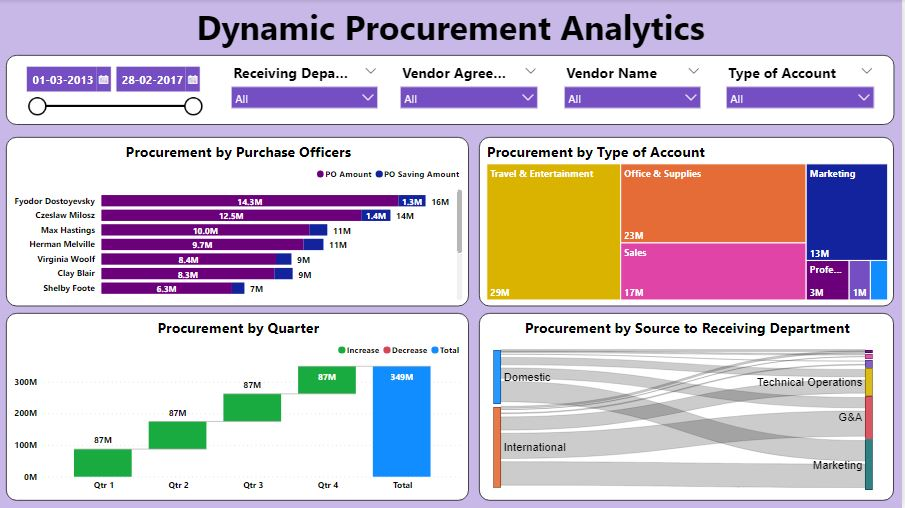

What the dashboard file says about the page in this screenshot:
{"tool":"powerbi","page":{"name":"Home","canvas":[1280,720],"ordinal":0},"visuals":[{"type":"barChart","fields":{"Category":["Procurement Data.PO Number"]},"box":[9.9,78,1258.6,99.2],"z":0},{"type":"slicer","fields":{"Values":["Date.Date"]},"box":[25.5,83.6,270.7,86.5],"z":1000},{"type":"slicer","fields":{"Values":["Procurement Data.Receiving Department"]},"box":[318.9,83.6,228.2,86.5],"z":2000},{"type":"slicer","fields":{"Values":["Procurement Data.Vendor Agreement Terms"]},"box":[558.4,83.6,215.4,86.5],"z":3000},{"type":"slicer","fields":{"Values":["Procurement Data.Vendor Name"]},"box":[790.9,83.6,214,86.5],"z":4000},{"type":"slicer","fields":{"Values":["Procurement Data.Type of Account"]},"box":[1020.5,83.6,229.6,86.5],"z":5000},{"type":"textbox","box":[0,0,1279.8,78],"z":6000},{"type":"barChart","title":"Procurement by Purchase Officers","fields":{"Category":["Procurement Data.Purchase Officers"],"Y":["Sum(Procurement Data.PO Amount)","Sum(Procurement Data.PO Saving Amount)"]},"box":[9.9,194.2,656.2,239.5],"z":7000},{"type":"treemap","title":"Procurement by Type of Account","fields":{"Group":["Procurement Data.Type of Account"],"Values":["Sum(Procurement Data.PO Amount)"]},"box":[680.3,194.2,588.2,239.5],"z":8000},{"type":"waterfallChart","title":"Procurement by Quarter","fields":{"Category":["Date.Date.Variation.Date Hierarchy.Quarter"],"Y":["Sum(Procurement Data.PO Amount)"]},"box":[9.9,443.6,656.2,266.5],"z":9000},{"type":"sankey02300D1BE6F5427989F3DE31CCA9E0F32020","title":"Procurement by Source to Receiving Department","fields":{"Source":["Procurement Data.Domestic or International"],"Destination":["Procurement Data.Receiving Department"],"Weight":["Sum(Procurement Data.PO Amount)"]},"box":[680.3,443.6,588.2,266.5],"z":10000}]}

Visuals, with their boxes in screenshot pixels (x1, y1, x2, y2), scaled from the page's 1280x720 canvas onto the 905x508 screenshot:
barChart - Procurement Data.PO Number: 7 55 897 125
slicer - Date.Date: 18 59 209 120
slicer - Procurement Data.Receiving Department: 225 59 387 120
slicer - Procurement Data.Vendor Agreement Terms: 395 59 547 120
slicer - Procurement Data.Vendor Name: 559 59 710 120
slicer - Procurement Data.Type of Account: 722 59 884 120
textbox: 0 0 904 55
"Procurement by Purchase Officers" barChart: 7 137 471 306
"Procurement by Type of Account" treemap: 481 137 897 306
"Procurement by Quarter" waterfallChart: 7 313 471 501
"Procurement by Source to Receiving Department" sankey02300D1BE6F5427989F3DE31CCA9E0F32020: 481 313 897 501
